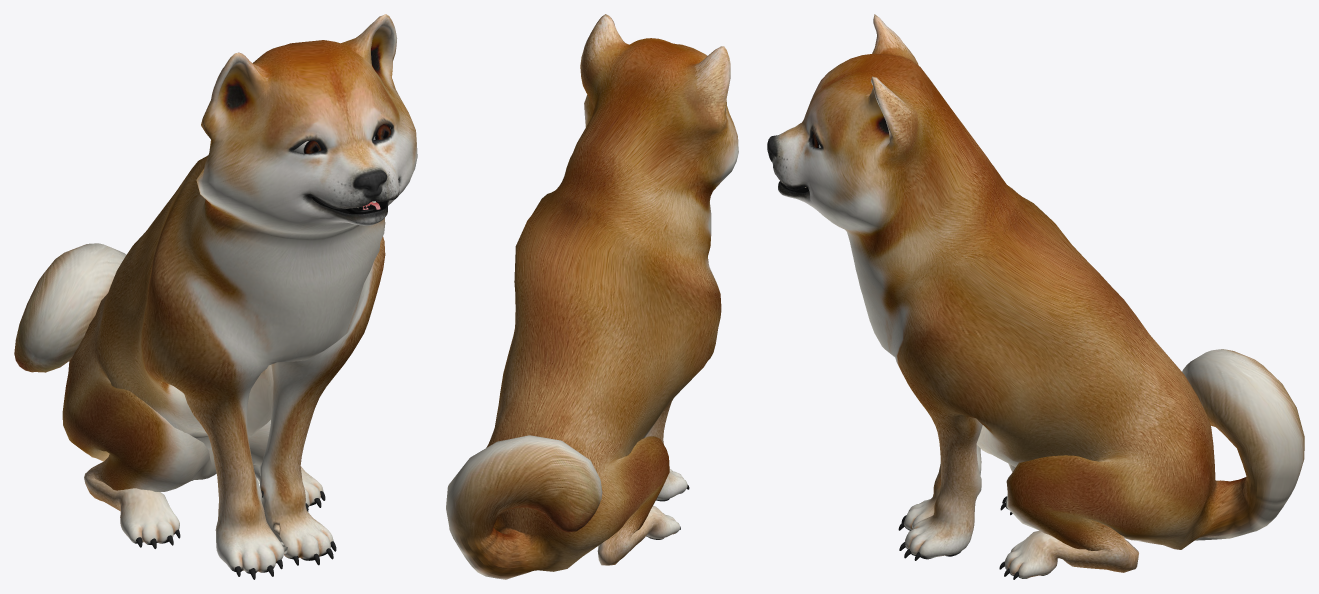
The model's file is shiba-scan.glb.
3 views of the same model, side by side, from view 1: azimuth 30°, elevation 25°; view 2: azimuth 150°, elevation 25°; view 3: azimuth 270°, elevation 25° (orthographic). The views are drawn at different scales.
Parts seen in each view (by area): view 1: Shiba; view 2: Shiba; view 3: Shiba.
Part boxes in pixels (box(x1,y1,x2,y2)): Shiba: box(14, 14, 417, 579); Shiba: box(446, 14, 738, 579); Shiba: box(767, 14, 1304, 579).
Size of the model in its own units: 37.76 by 88.75 by 86.47.
Materials: 1 (1 with a texture image).
